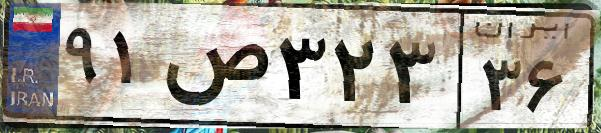1: (110, 28, 158, 98)
2: (330, 28, 385, 110)
3: (270, 28, 330, 110), (385, 28, 445, 110), (475, 38, 525, 113)
6: (525, 38, 570, 115)
9: (57, 26, 110, 100)
ص: (158, 20, 270, 120)
